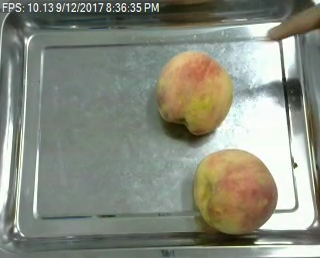Peach: (192, 148, 277, 234), (155, 48, 233, 133)
